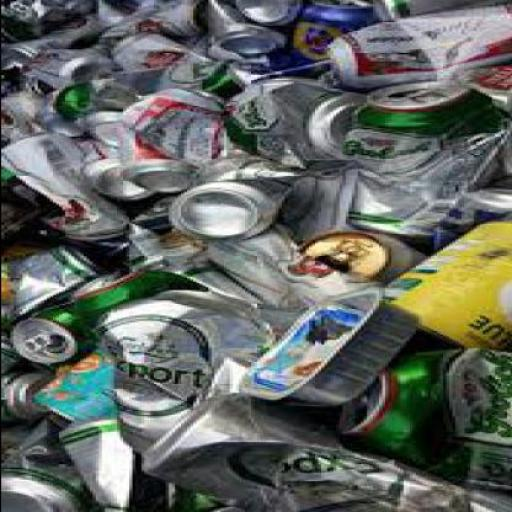metal: (0, 2, 510, 511), (134, 394, 510, 511), (86, 292, 284, 458), (338, 82, 508, 239), (332, 351, 509, 493), (234, 289, 412, 408), (362, 220, 509, 350), (6, 272, 213, 364), (320, 2, 510, 92), (46, 421, 216, 511), (122, 199, 283, 283), (1, 133, 122, 242), (219, 81, 357, 174), (158, 159, 305, 240), (0, 249, 101, 338), (259, 2, 369, 80), (120, 90, 226, 170), (292, 232, 418, 290), (2, 416, 76, 511), (30, 340, 110, 426), (104, 36, 222, 90), (424, 190, 510, 254), (198, 2, 284, 61), (3, 14, 100, 65), (80, 116, 134, 200), (98, 2, 207, 41), (22, 42, 104, 90), (82, 75, 131, 149), (1, 362, 52, 424), (0, 62, 37, 132), (195, 63, 259, 97), (232, 2, 296, 29), (21, 2, 98, 16)
